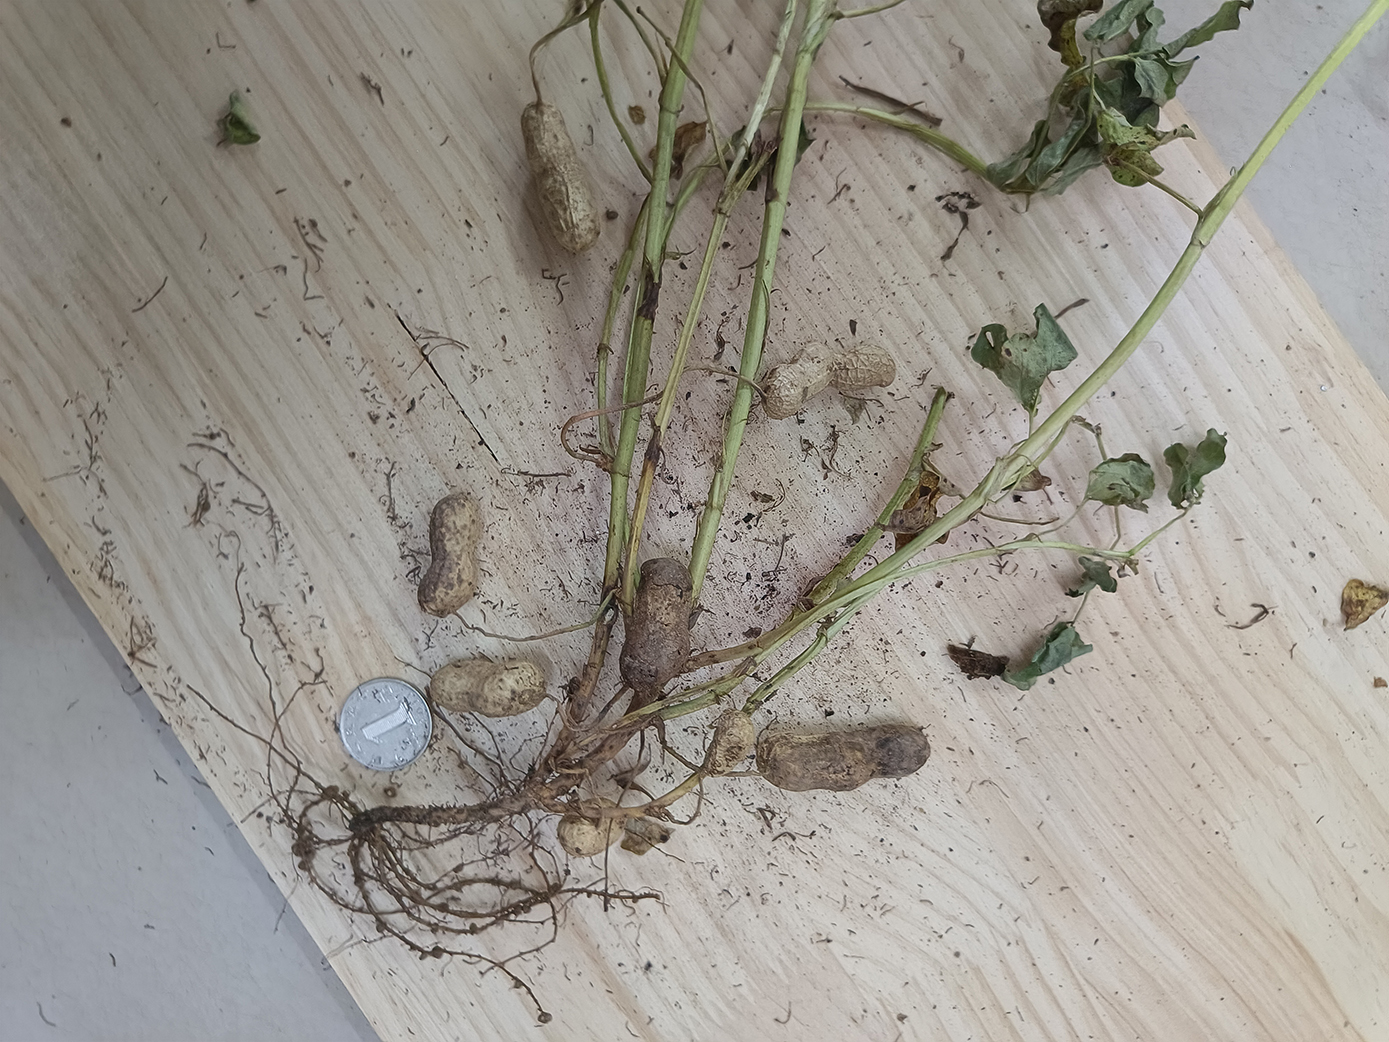h: (520, 101, 601, 252), (763, 337, 895, 418), (417, 494, 481, 617), (429, 658, 544, 717), (556, 795, 629, 858)
l: (759, 723, 931, 792), (618, 559, 694, 701), (706, 709, 757, 774)
